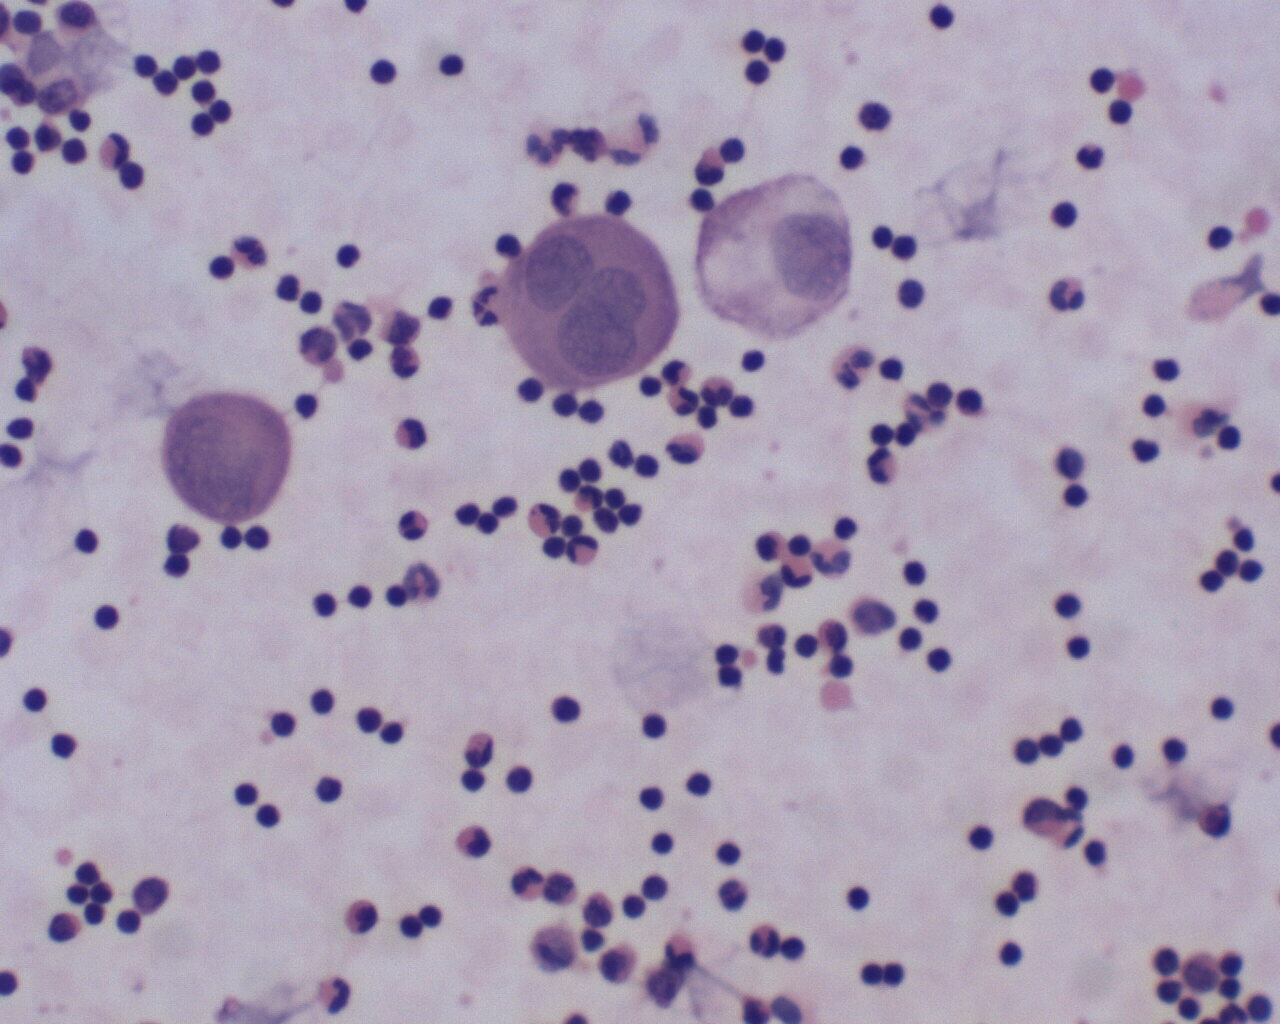ab: (495, 212, 677, 388), (696, 174, 857, 336), (159, 389, 299, 527)
lymph: (45, 726, 88, 766), (544, 686, 587, 725), (1042, 197, 1085, 235), (310, 772, 351, 811), (360, 54, 402, 92), (85, 598, 125, 635), (1206, 689, 1241, 731), (922, 1, 964, 37), (503, 757, 540, 796), (678, 765, 717, 802), (895, 554, 936, 589), (72, 522, 109, 560), (306, 684, 342, 722), (926, 641, 958, 677), (1055, 588, 1088, 623), (965, 820, 996, 852)
neutro: (1046, 267, 1088, 317), (311, 972, 354, 1015), (391, 503, 432, 544), (741, 920, 779, 962), (1067, 139, 1107, 177), (865, 450, 900, 487), (666, 380, 699, 418)
